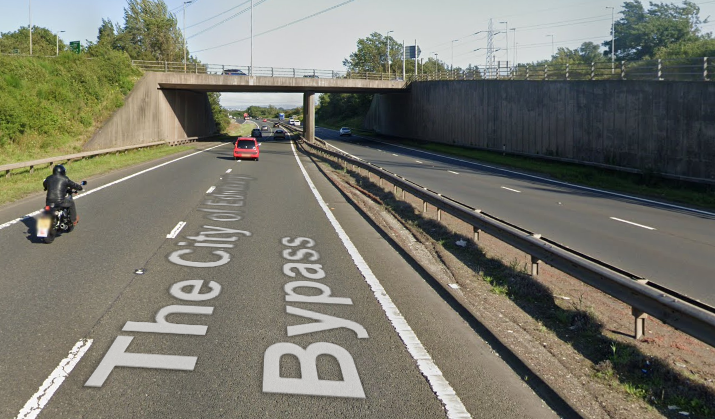bridge: (131, 60, 409, 94)
